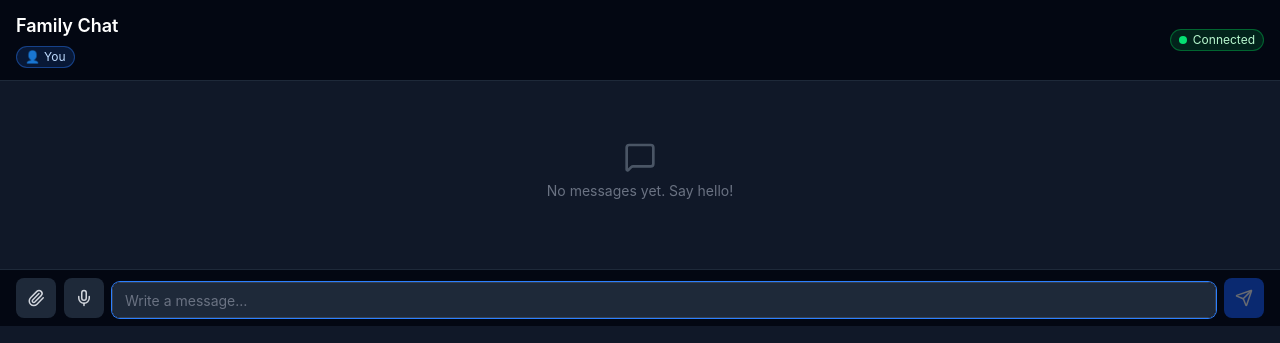
Test case: ChatView – optimistic send + reconciliation › shows a failed affordance on POST error and reconciles after a tap-to-retry
The width and height of the screenshot is (1280, 343).
Expected: the text "No messages yet. Say hello!" is shown, [547, 181, 733, 201]
Type "Flaky" into the text box at point(664, 300), box [112, 282, 1216, 318]
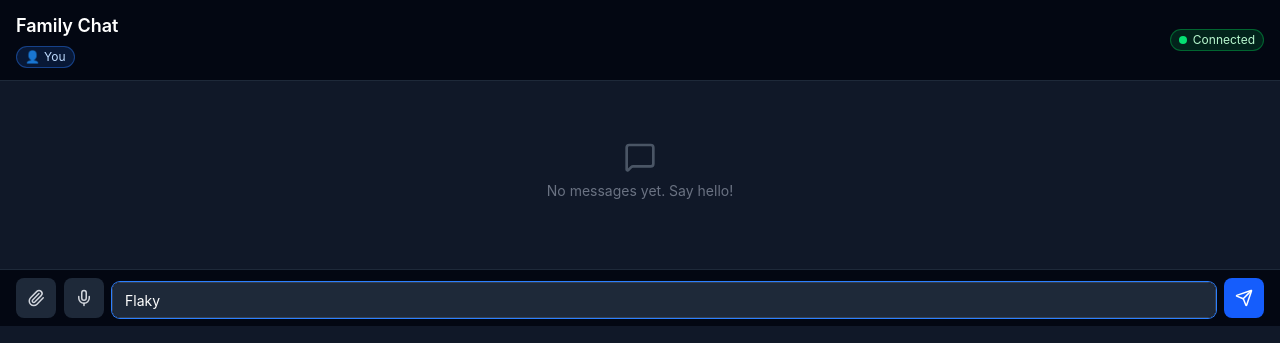
Press Enter in the text box, box [112, 282, 1216, 318]
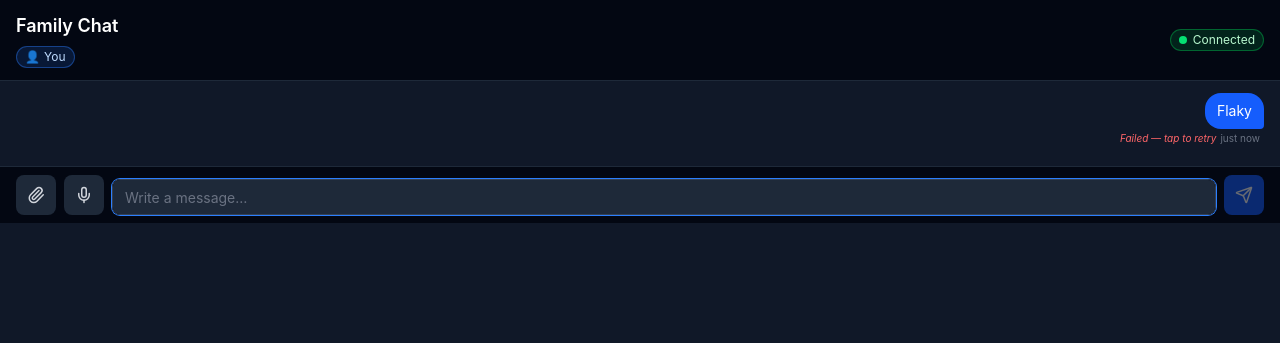
Click the button "Failed — tap to retry" at point(1168, 138), box [1120, 131, 1216, 146]
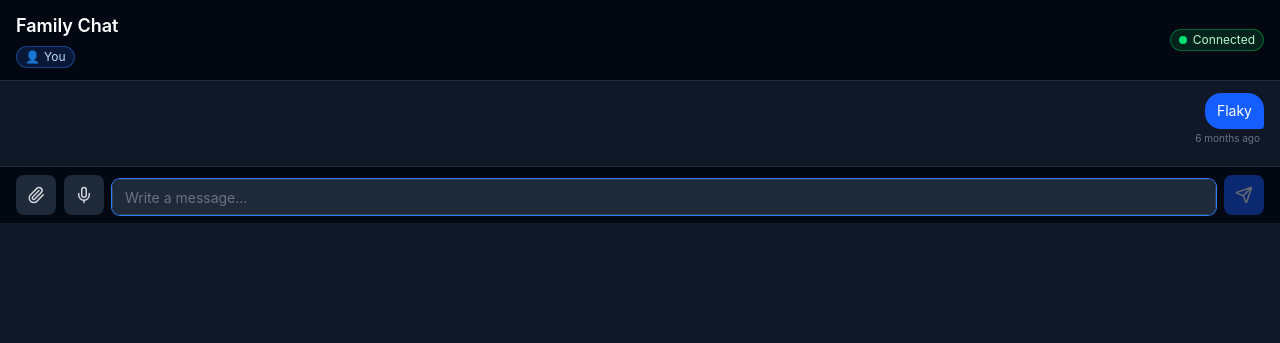
Expected: the text "Flaky" is shown once, [1217, 101, 1252, 121]
Expected: the button "Failed — tap to retry" is gone
